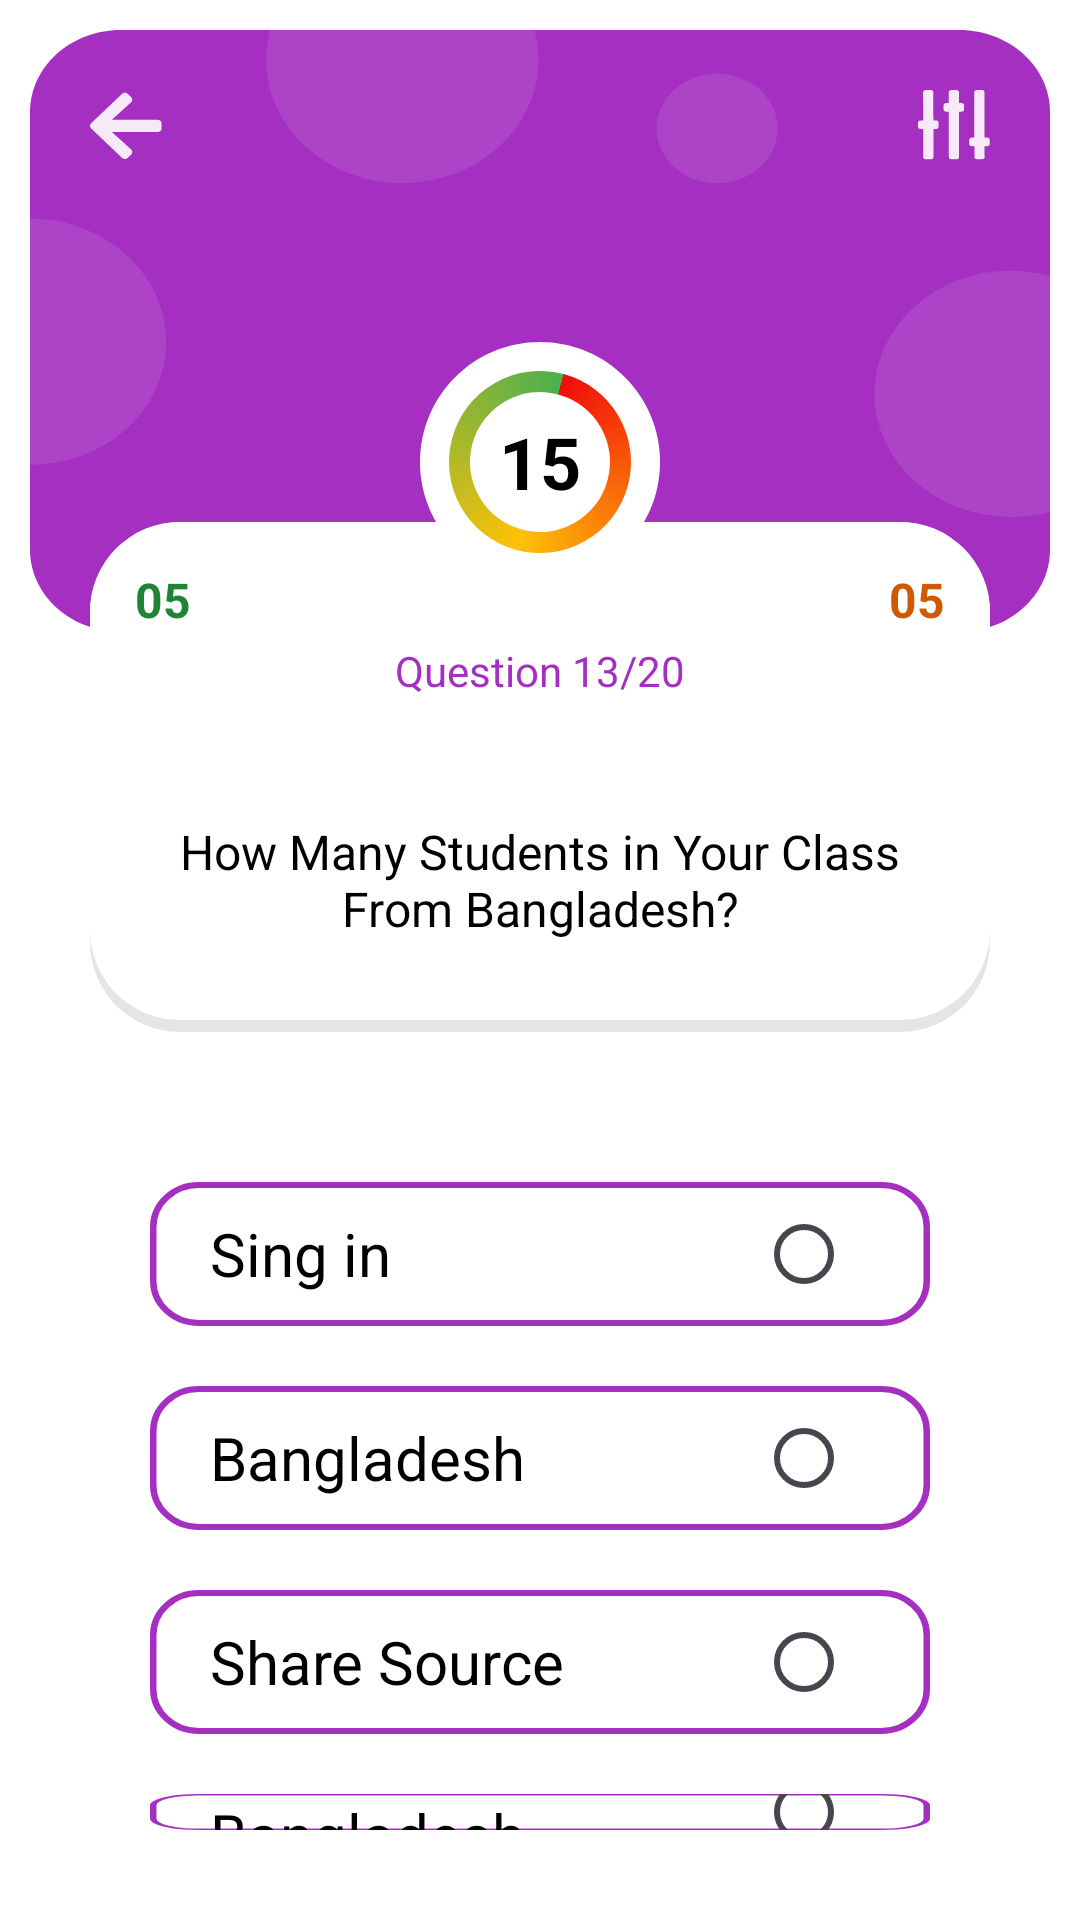

Locate icon controls on the screen. Image size 1080x1920, boxes as region(x1, y1, x2, y2).
back: region(90, 92, 162, 159)
